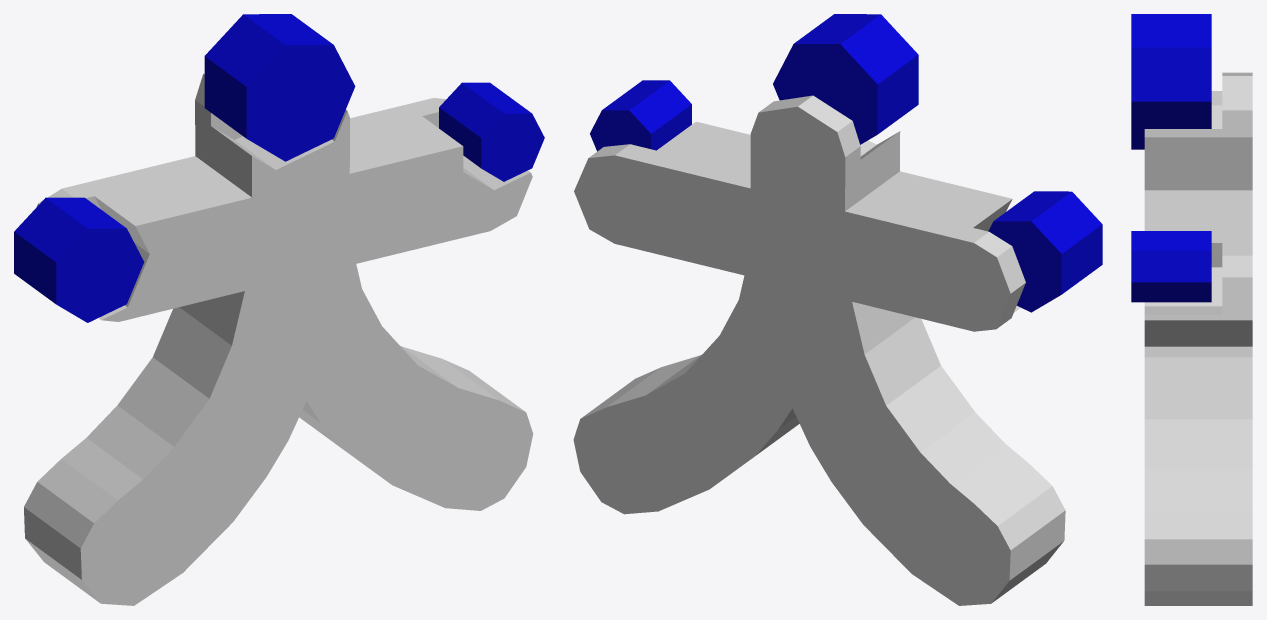
The model's file is Ch_Lite_China_大_01.fbx.
3 renders of one model, left to right at view 1: azimuth 30°, elevation 25°; view 2: azimuth 150°, elevation 25°; view 3: azimuth 270°, elevation 25°, orthographic. The views are drawn at different scales.
Parts seen in each view (by area): view 1: sphere1; view 2: sphere1; view 3: sphere1.
Part boxes in pixels (box(x1,y1,x2,y2)): sphere1: box(14, 14, 544, 605); sphere1: box(573, 14, 1102, 605); sphere1: box(1131, 14, 1252, 605).
Size of the model in its own units: 0.992 by 1.03 by 0.2242.
